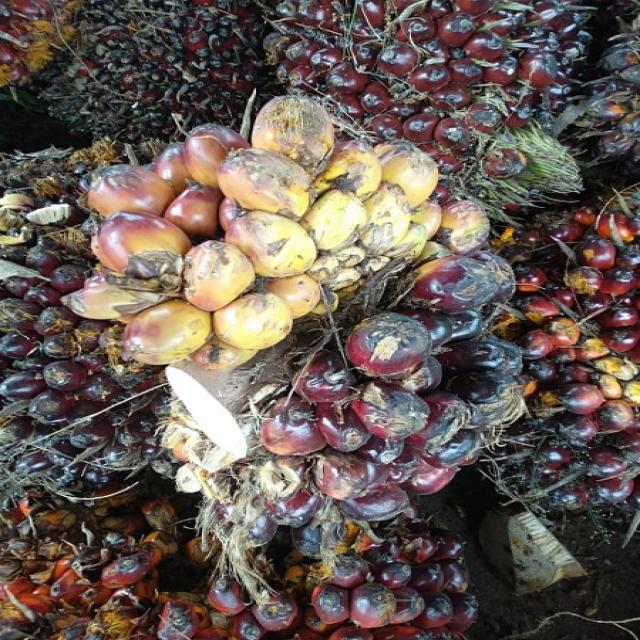fraksi 00: (39, 97, 561, 551)
